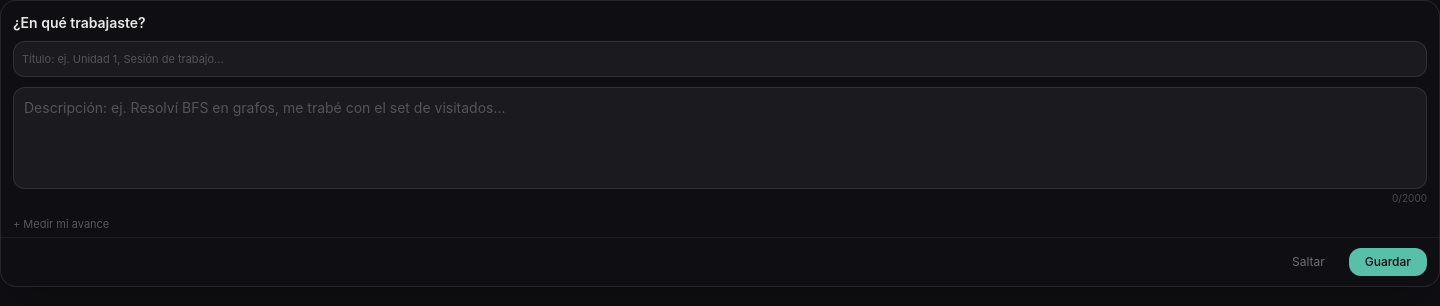
Test: JournalPrompt › Enter en el input de topics agrega un chip
The image size is (1440, 306).
In the field with placeholder "Título: ej. Unidad 1, Sesión de trabajo...": x=720, y=59 [22,50,1418,68], type "grafos"
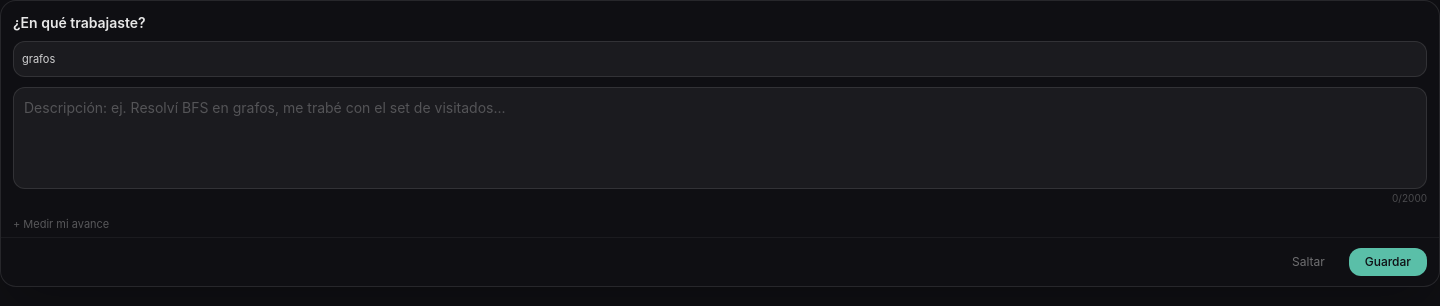
Press Enter in the field with placeholder "Título: ej. Unidad 1, Sesión de trabajo...", box [22,50,1418,68]
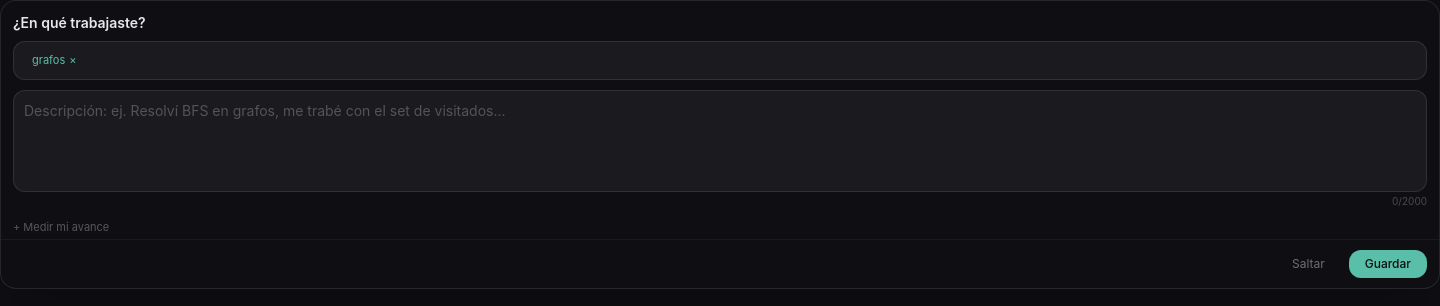
Expected: the text "grafos" is shown, [32,53,65,67]
